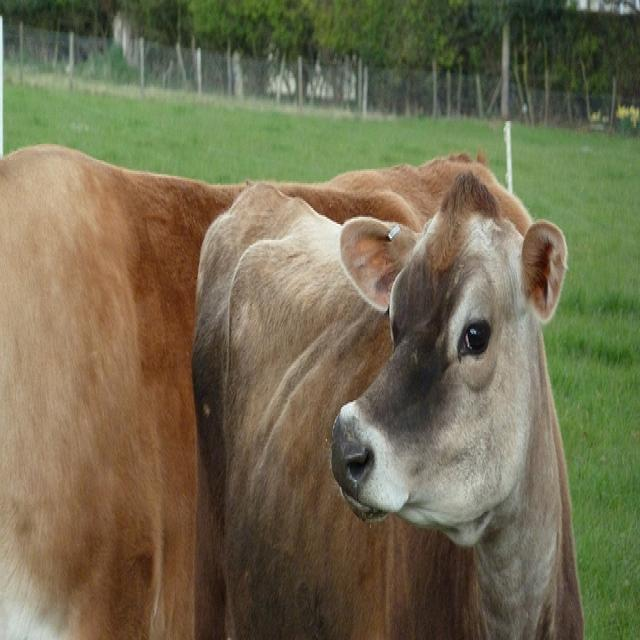cow: (1, 137, 536, 638), (192, 167, 579, 631)
